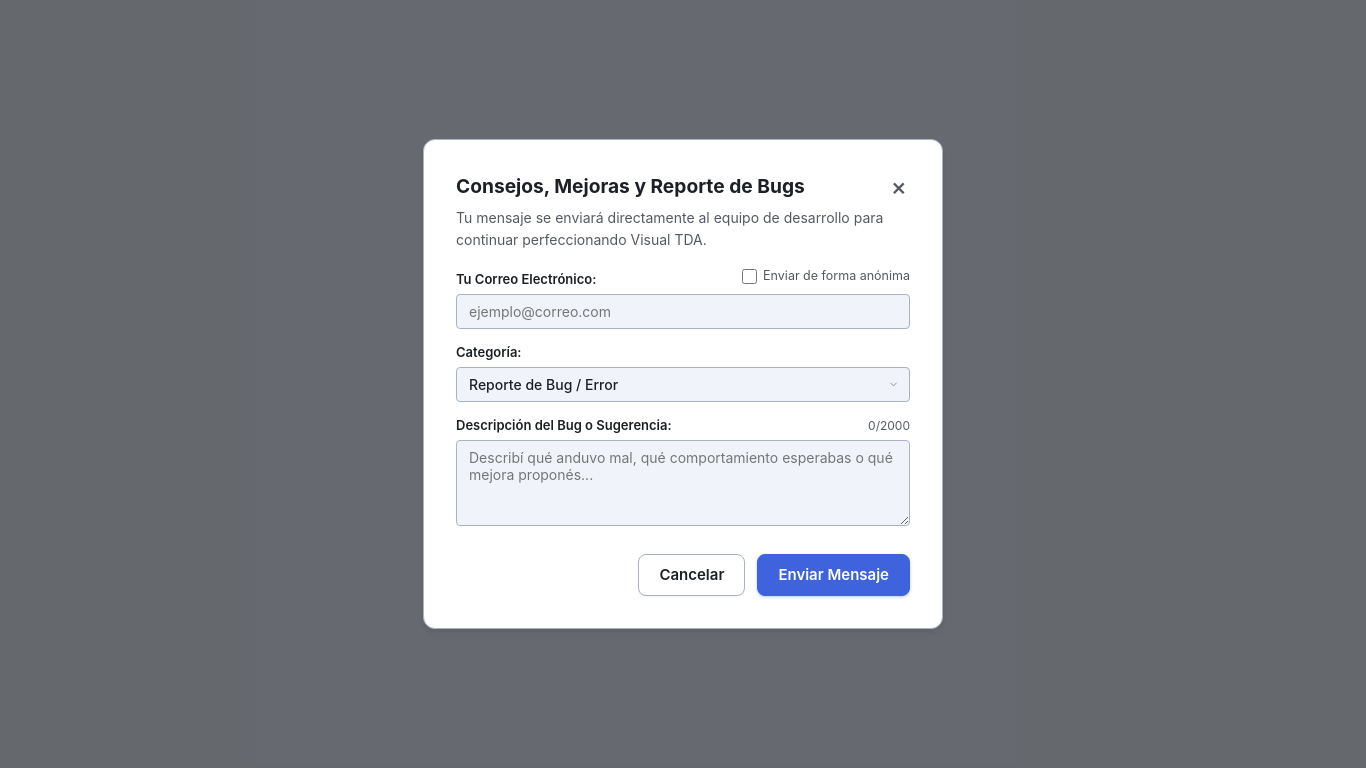
Test: Footer, FeedbackModal Privacy & Road Antennas Baseline › FeedbackModal component & Reliability › toggles anonymous submission, disabling and clearing email input
The width and height of the screenshot is (1366, 768).
Expected: the field with id "fb-email" is enabled, [456,294,910,329]
Click anonymous checkbox
Click the checkbox with id "fb-anon": {"x": 749, "y": 277} [742,269,757,284]
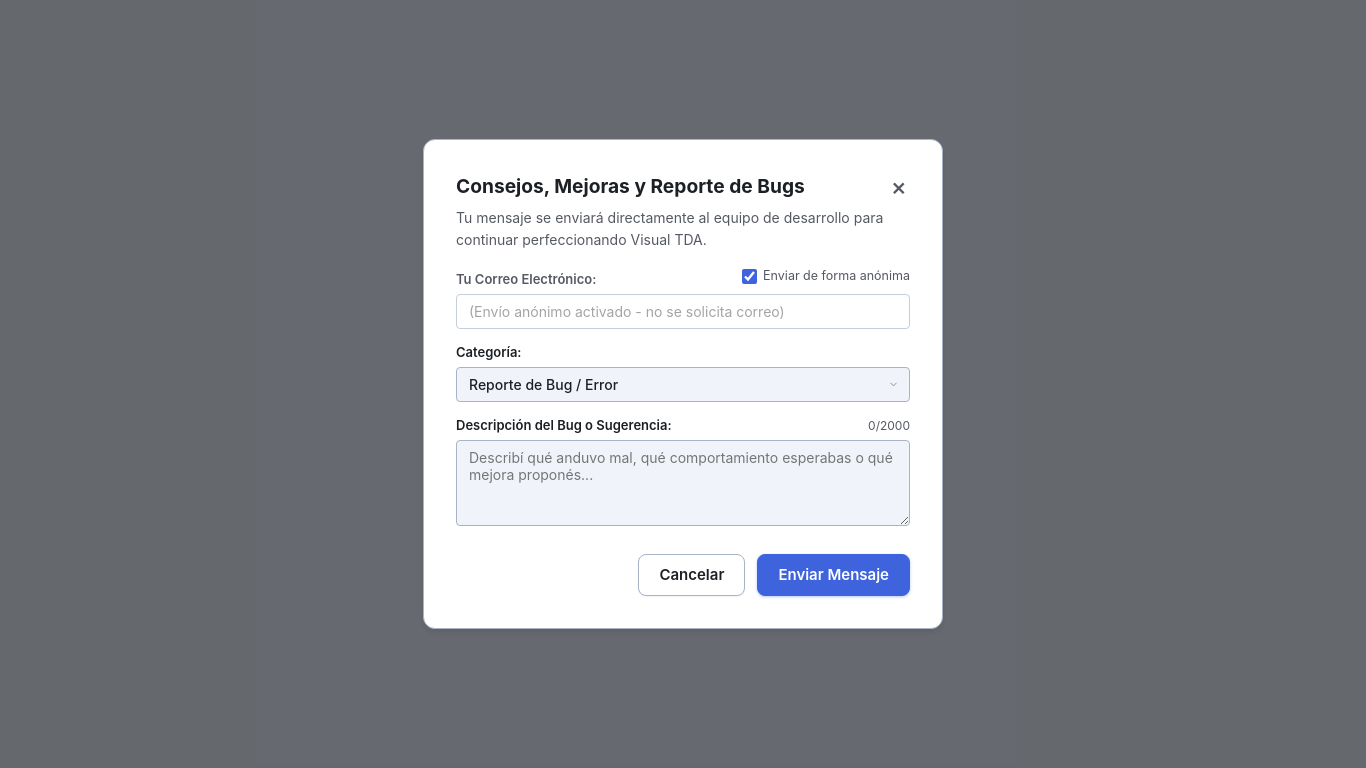
Result: the checkbox with id "fb-anon" is checked at [742,269,757,284]
Result: the field with id "fb-email" is disabled at [456,294,910,329]
